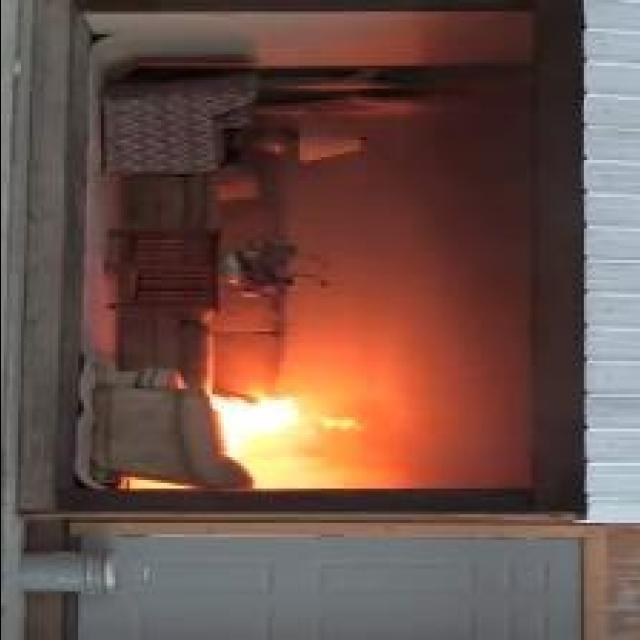Fire: (208, 396, 360, 458)
